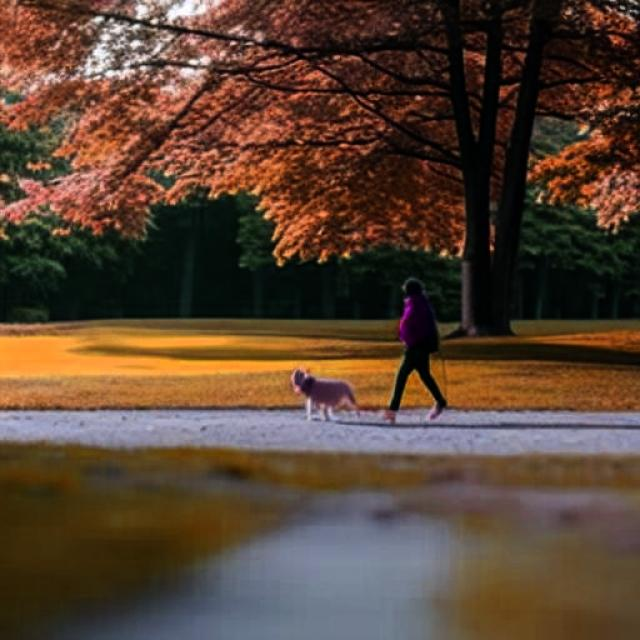Unleashed_Dog: (292, 349, 434, 425)
